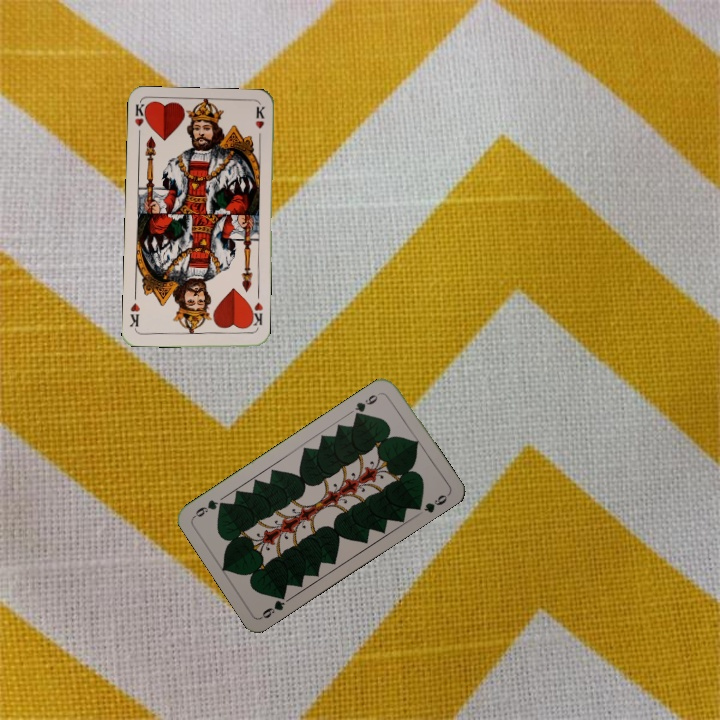G9: (350, 388, 384, 420), (257, 588, 289, 621)
HK: (131, 101, 150, 141), (246, 298, 265, 333)
